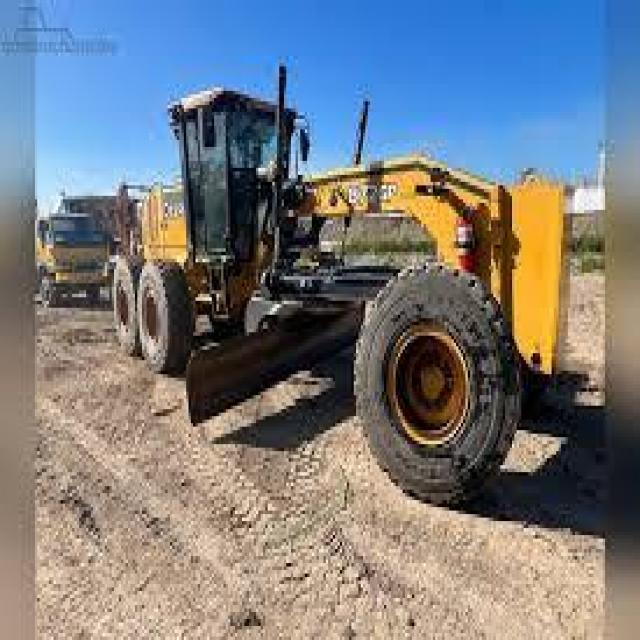Grader: (93, 70, 573, 518)
